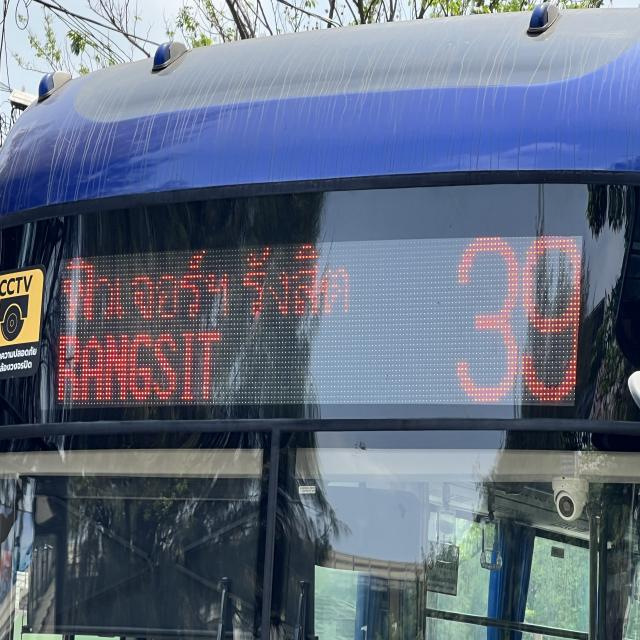Bus-Line-Number: (430, 219, 605, 434)
Destination-Sign-Normal: (55, 232, 365, 422)
TSB-Bus: (0, 0, 640, 640)
